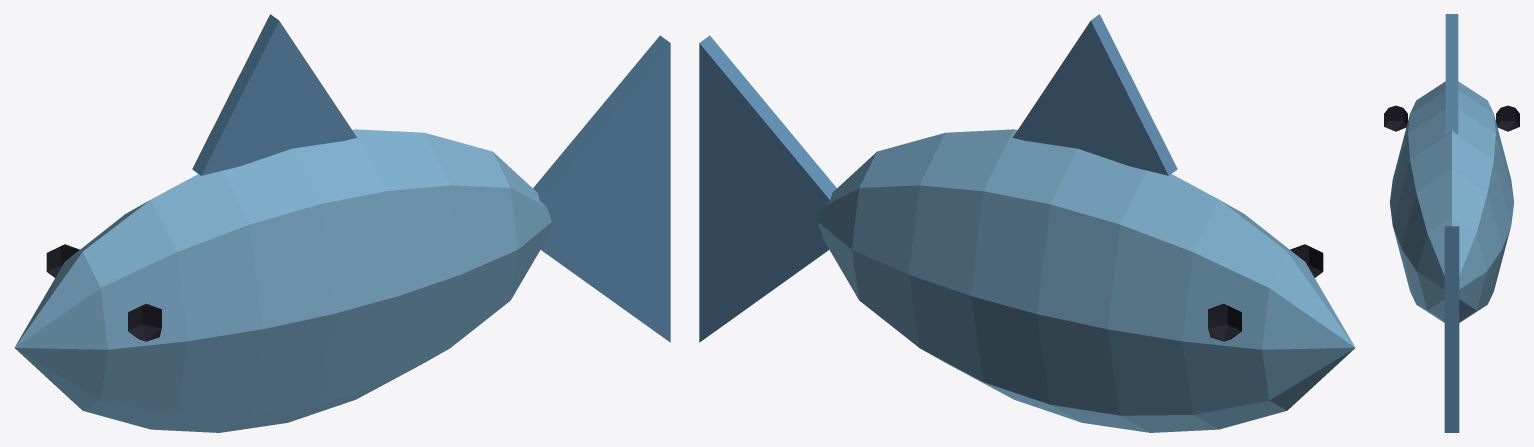
Rendered from Food_Fish.obj.
3 renders of one model, left to right at view 1: azimuth 30°, elevation 25°; view 2: azimuth 150°, elevation 25°; view 3: azimuth 270°, elevation 25°, orthographic. The views are drawn at different scales.
Size of the model in its own units: 2.5 by 1.53 by 0.6554.
